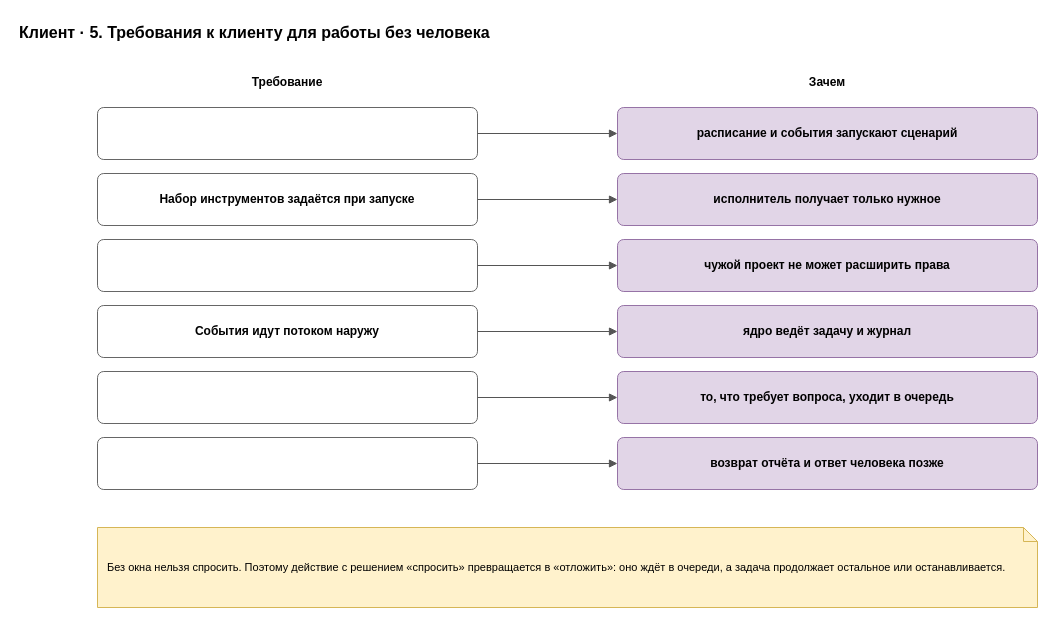
The diagram is 1055 pixels wide and 625 high, and some of its shapes have lost their labels. Each missing label, with the centre of its shape:
"Запуск одной командой с задачей на входе" goes at pixel 287 133.
"Настройки из рабочей папки не читаются" goes at pixel 287 265.
"Нет вопросов человеку" goes at pixel 287 397.
"Сессию можно продолжить" goes at pixel 287 463.
